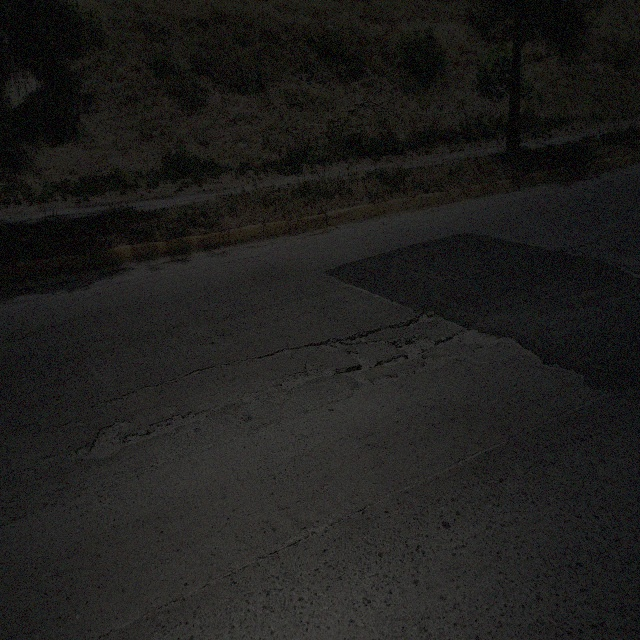pothole: (74, 399, 192, 458), (447, 322, 540, 370), (340, 352, 390, 400), (73, 418, 130, 460), (391, 334, 436, 360), (296, 358, 333, 383), (411, 306, 436, 328), (617, 259, 639, 283), (561, 243, 575, 257)
